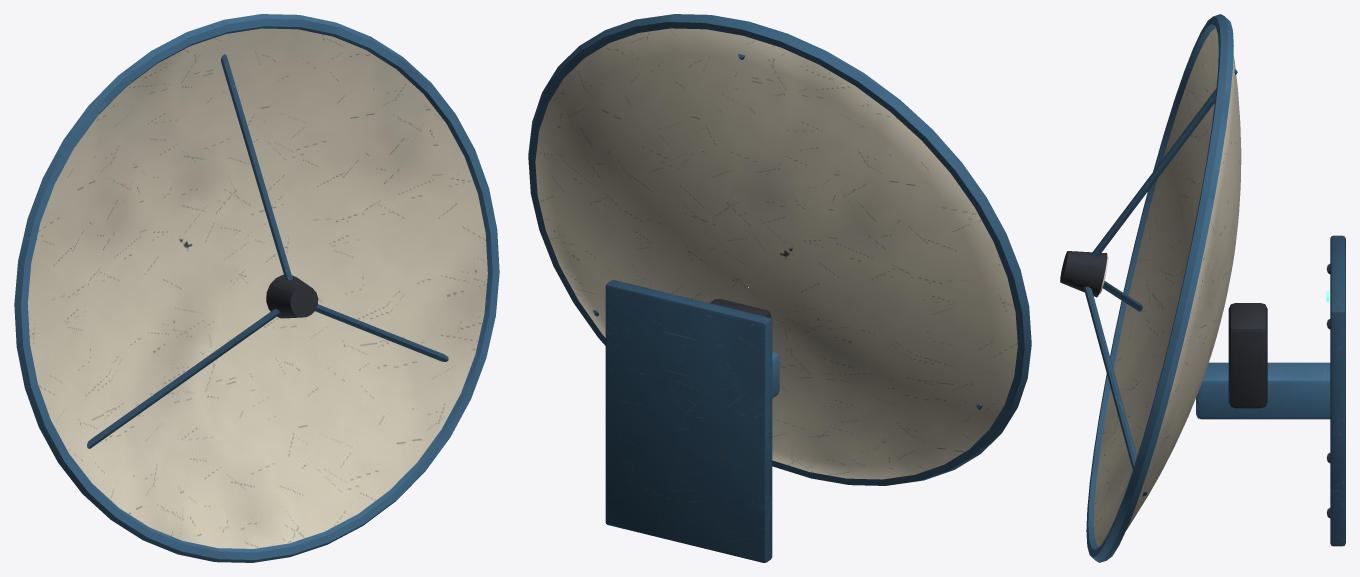
File: dish_antenna.glb
The picture shows the model from 3 angles, left to right: view 1: azimuth 30°, elevation 25°; view 2: azimuth 150°, elevation 25°; view 3: azimuth 270°, elevation 25°; orthographic projection. The views are drawn at different scales.
Parts seen in each view (by area): view 1: DishAntennaBody; view 2: DishAntennaBody; view 3: DishAntennaBody.
Part boxes in pixels (x1=…): DishAntennaBody: x1=14, y1=14, x2=499, y2=562; DishAntennaBody: x1=528, y1=14, x2=1031, y2=562; DishAntennaBody: x1=1060, y1=14, x2=1345, y2=562.
Bounding box in the file's own units: 0.864 × 0.8383 × 0.4386.
Materials: 7 (5 with a texture image).
